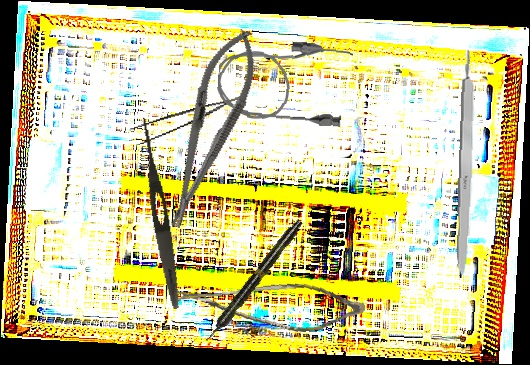Cannula: (215, 36, 354, 128)
Dressing Forceps: (134, 115, 185, 310)
Handpiece: (201, 217, 306, 345)
Micro Scissor: (169, 266, 367, 348)
Needle Holder: (150, 22, 270, 235)
Scalpel Handle: (455, 49, 479, 279)
Tissue Forceps: (127, 96, 244, 147)
